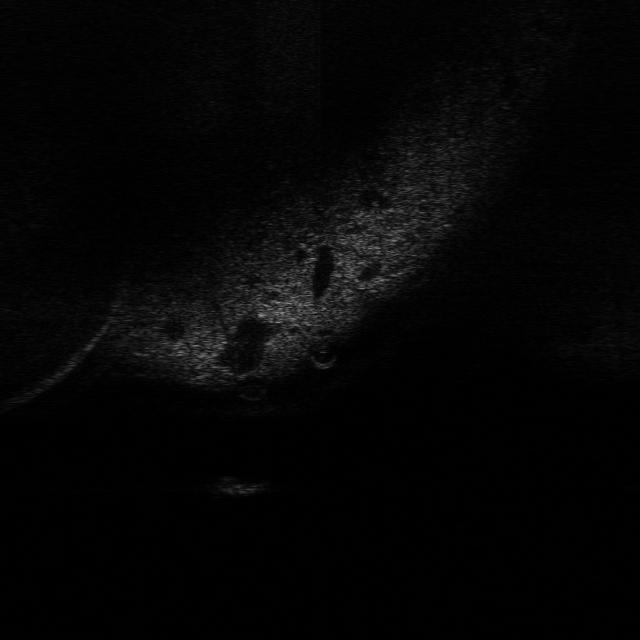ball: (303, 341, 339, 370)
cube: (203, 474, 274, 498)
